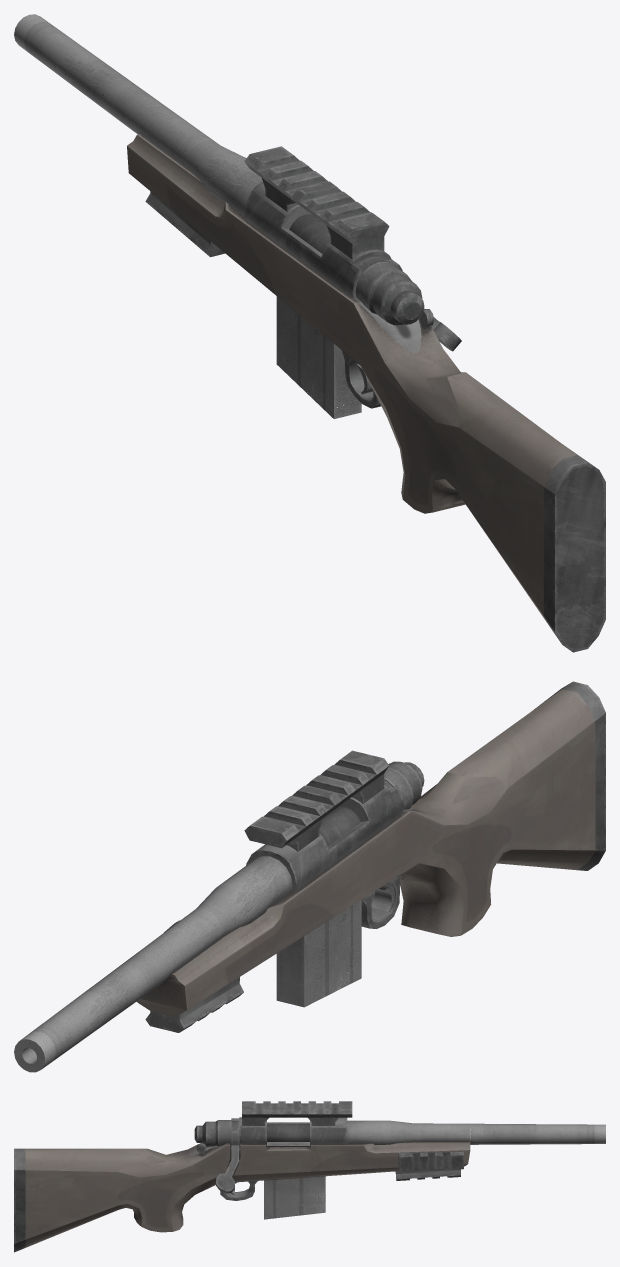
The model's file is IG_Gun_M700.fbx.
3 views of the same model, one above another, from view 1: azimuth 30°, elevation 25°; view 2: azimuth 150°, elevation 25°; view 3: azimuth 270°, elevation 25° (orthographic). The views are drawn at different scales.
Parts seen in each view (by area): view 1: WPN_M700; view 2: WPN_M700; view 3: WPN_M700, ShowIf_Tec.
Boxes of the visible parts, x1=… form: WPN_M700: x1=14, y1=14, x2=605, y2=652; WPN_M700: x1=14, y1=681, x2=605, y2=1072; WPN_M700: x1=14, y1=1101, x2=605, y2=1252; ShowIf_Tec: x1=398, y1=1151, x2=463, y2=1171.
Size of the model in its own units: 0.1482 by 0.3625 by 1.34.
